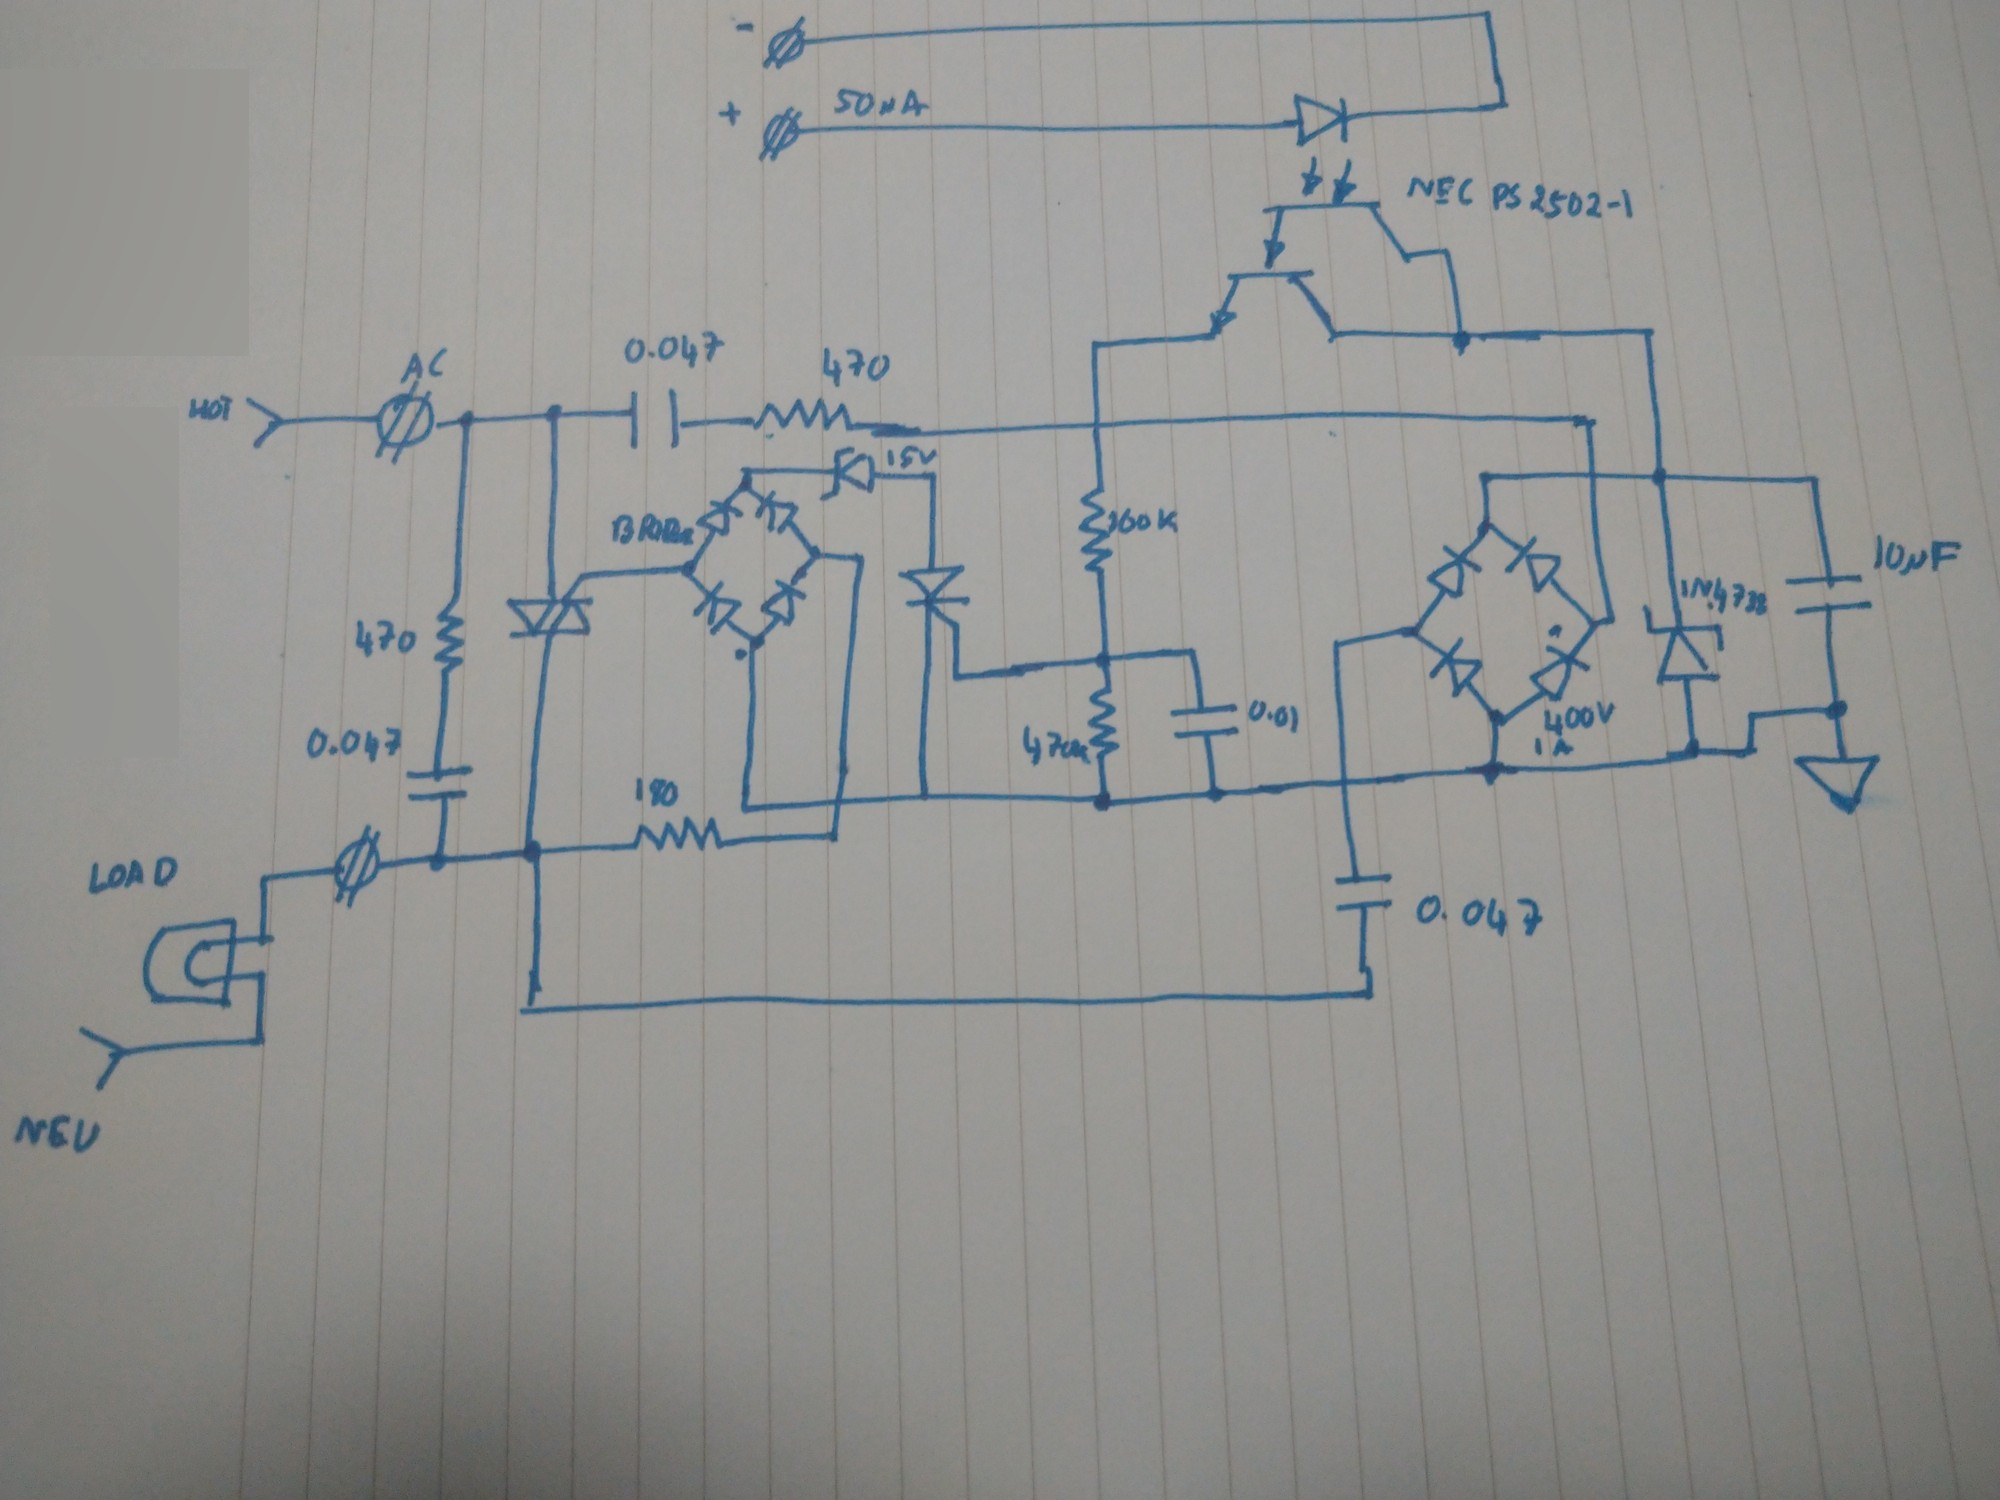capacitor.unpolarized: (1784, 569, 1876, 619), (625, 388, 690, 451), (1170, 700, 1239, 745), (1332, 870, 1395, 919), (405, 763, 472, 805)
crossover: (1087, 416, 1112, 436), (1583, 465, 1603, 484), (1335, 774, 1356, 791), (830, 793, 849, 808)
diode: (1643, 607, 1724, 682), (1531, 646, 1591, 701), (1428, 637, 1483, 696), (1506, 536, 1562, 591), (1425, 545, 1480, 599), (820, 447, 876, 499), (693, 581, 742, 633), (761, 580, 806, 626), (756, 492, 798, 536), (696, 499, 743, 536)
gnd: (1794, 753, 1880, 815)
junction: (1480, 758, 1507, 786), (1449, 328, 1476, 353), (1091, 786, 1115, 815), (521, 838, 546, 863), (1827, 696, 1850, 723), (1680, 737, 1706, 761), (1573, 410, 1598, 432), (1205, 783, 1227, 805), (746, 630, 769, 652), (428, 848, 449, 871), (1487, 707, 1510, 728), (457, 407, 477, 430), (849, 548, 872, 569), (1094, 649, 1115, 671), (1650, 466, 1672, 487), (543, 402, 564, 424), (1359, 983, 1380, 1005), (677, 558, 699, 578), (1476, 518, 1496, 539), (247, 1030, 266, 1049), (520, 997, 539, 1016), (827, 826, 846, 845), (735, 800, 754, 819), (1742, 741, 1761, 759), (1491, 96, 1512, 113), (803, 545, 824, 562), (915, 786, 934, 804), (1087, 337, 1106, 355), (737, 477, 754, 496), (1408, 619, 1424, 640), (1477, 468, 1494, 485), (1184, 643, 1203, 659), (1639, 325, 1658, 340), (1477, 6, 1496, 22), (255, 931, 276, 945), (254, 964, 269, 982), (1331, 635, 1345, 652), (1806, 471, 1824, 485), (924, 470, 942, 484), (735, 465, 757, 476), (257, 870, 272, 884), (950, 666, 964, 682), (1584, 616, 1600, 630), (1605, 611, 1619, 627), (1745, 709, 1761, 722), (1439, 244, 1455, 257)
lamp: (142, 917, 238, 1008)
optocoupler: (1261, 91, 1416, 269)
resistor: (753, 397, 852, 435), (631, 815, 724, 854), (1077, 485, 1113, 575), (1087, 689, 1120, 763), (433, 594, 463, 671)
terminal: (79, 1026, 124, 1092), (759, 106, 803, 161), (764, 17, 806, 69), (246, 397, 283, 449)
text: (1406, 176, 1635, 221), (1416, 893, 1543, 939), (624, 329, 726, 369), (1872, 533, 1961, 577), (88, 856, 178, 895), (13, 1112, 102, 1152), (306, 726, 402, 763), (1680, 577, 1769, 616), (833, 87, 931, 117), (822, 347, 891, 388), (611, 514, 694, 547), (1022, 726, 1091, 766), (354, 618, 417, 659), (1543, 703, 1614, 736), (1109, 507, 1178, 536), (1247, 700, 1298, 733), (402, 348, 449, 381), (635, 777, 680, 807), (887, 444, 940, 470), (187, 394, 231, 421), (1534, 737, 1573, 756)
thyristor: (899, 566, 972, 633)
transistor: (1208, 269, 1339, 342)
triac: (506, 570, 597, 640)
